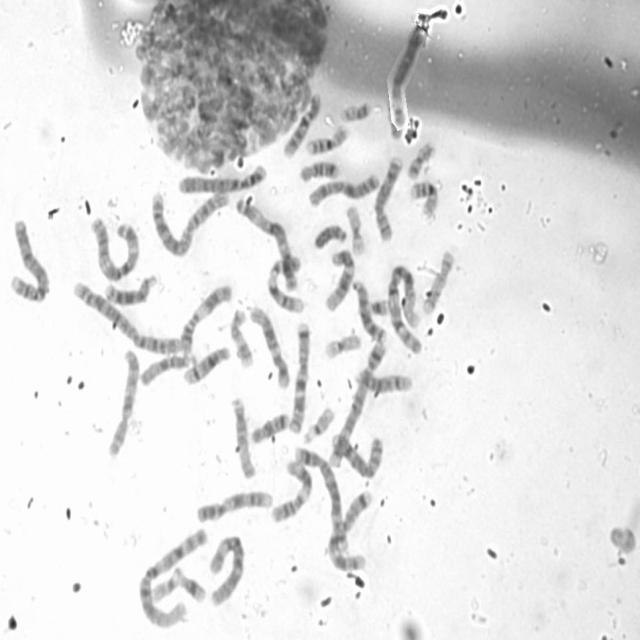A1: (137, 528, 208, 629), (386, 262, 425, 357)
A2: (72, 279, 182, 357), (149, 188, 229, 256)
A3: (235, 196, 300, 292), (89, 216, 142, 283)
B4: (8, 217, 52, 305), (177, 162, 266, 195)
B5: (329, 342, 387, 472), (294, 445, 350, 557)
C10: (105, 348, 140, 459), (282, 90, 324, 160)
C11: (180, 284, 232, 353), (271, 460, 313, 528)
C12: (248, 303, 291, 390), (321, 247, 356, 312)
C6: (390, 24, 424, 128), (208, 532, 246, 610)
C7: (326, 491, 372, 572), (288, 322, 311, 434)
C8: (330, 431, 384, 478), (374, 154, 402, 244)
C9: (194, 489, 273, 524), (266, 255, 306, 313)
D13: (351, 278, 387, 342), (103, 274, 160, 308)
D14: (183, 346, 230, 386), (353, 368, 415, 397)
D15: (229, 396, 258, 481), (139, 353, 194, 388)
E16: (304, 123, 352, 156), (411, 181, 438, 221)
E17: (423, 248, 456, 314), (228, 308, 255, 368)
E18: (250, 412, 289, 445), (299, 158, 339, 183)
F19: (344, 203, 366, 260), (323, 332, 361, 360)
F20: (408, 141, 433, 180), (339, 101, 372, 124)
G21: (179, 572, 206, 605), (368, 298, 390, 318)
G22: (302, 404, 336, 444), (149, 567, 180, 604)
X: (306, 172, 382, 209)
Y: (314, 222, 348, 250)
